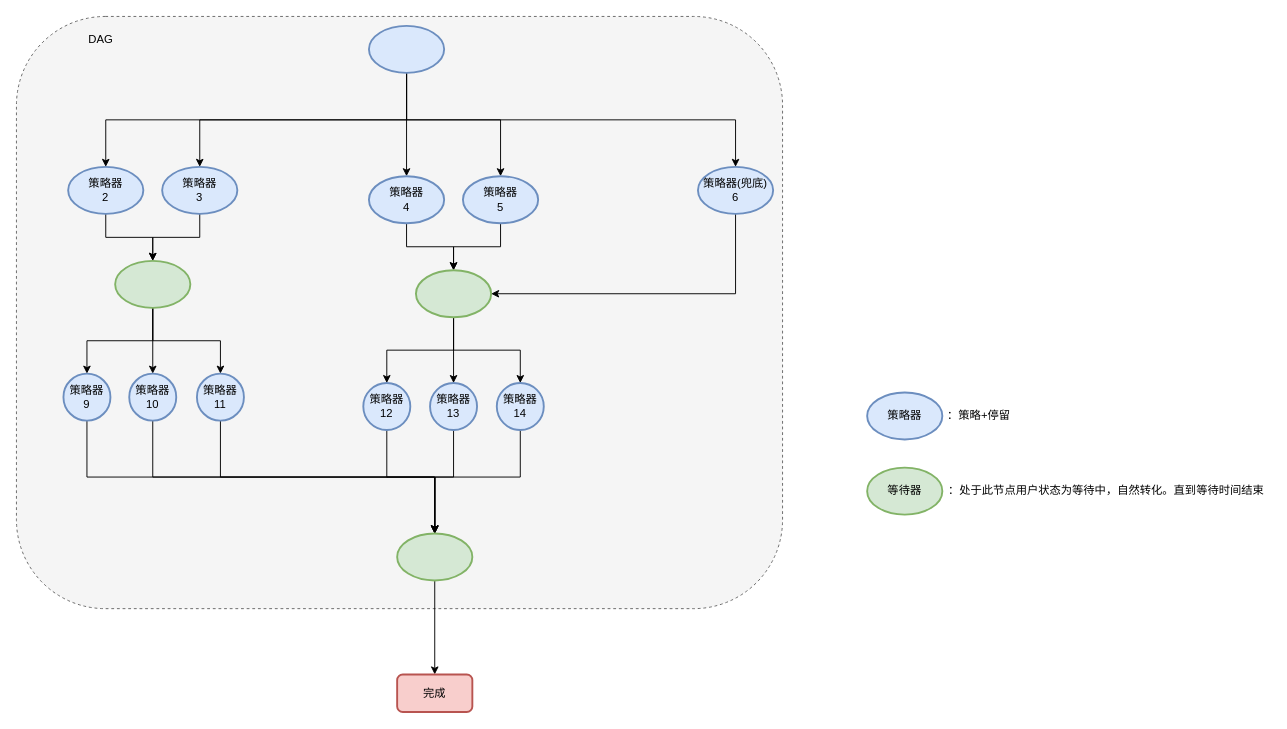
This 1287x729 diagram has some shape labels left out. The shapes that lost their labels are listed below. From the top down, each one's centre as x and y in pixels, then its label:
At point 406,48: "策略器1".
At point 152,283: "等待器 7".
At point 453,293: "等待器 8".
At point 434,556: "等待器 15".
